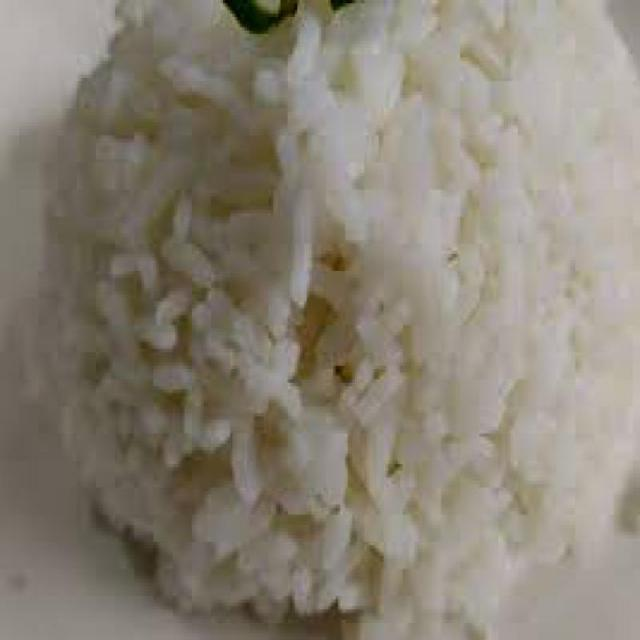rice: (46, 0, 639, 639)
